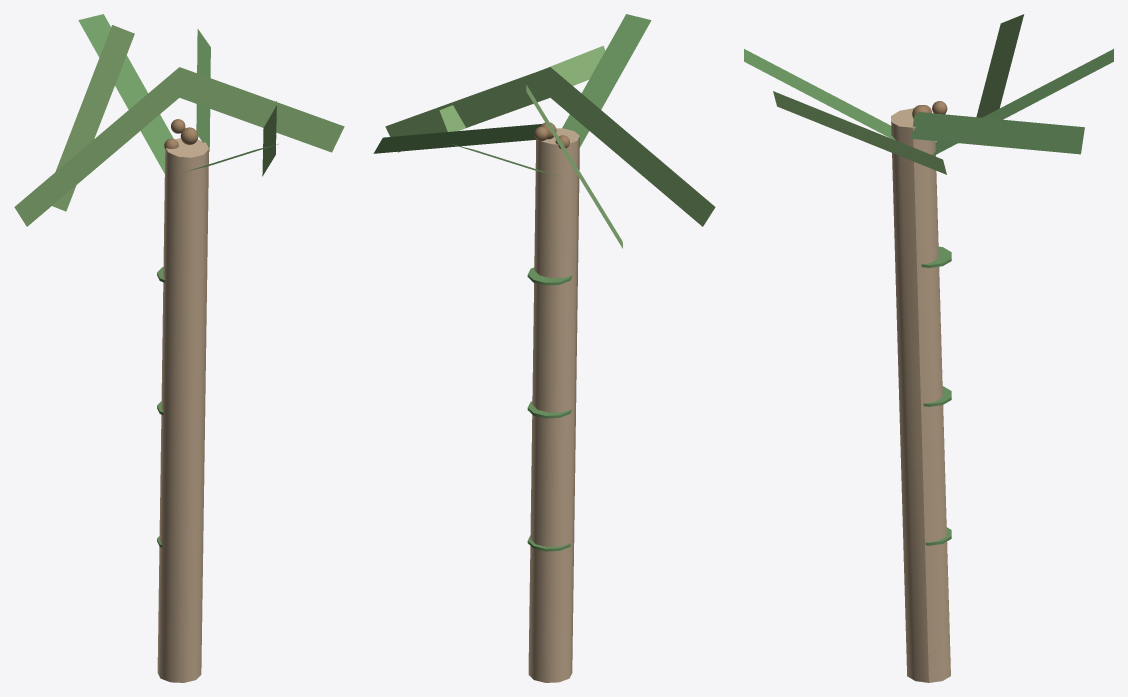
The model's file is palm_tree.glb.
3 views of the same model, side by side, from view 1: azimuth 30°, elevation 25°; view 2: azimuth 150°, elevation 25°; view 3: azimuth 270°, elevation 25° (orthographic). The views are drawn at different scales.
Visible parts, largest first — view 1: trunk, frond_2, frond_1, frond_6, frond_4, frond_7, frond_5; view 2: trunk, frond_2, frond_1, frond_3, frond_7, frond_5, frond_6; view 3: trunk, frond_7, frond_5, frond_6, frond_3, frond_4.
Boxes of the visible parts, box(x1,y1,x2,y2) form: trunk: box(157, 138, 208, 682); frond_2: box(14, 67, 191, 226); frond_1: box(167, 67, 344, 152); frond_6: box(52, 25, 134, 211); frond_4: box(78, 14, 173, 173); frond_7: box(196, 29, 210, 151); frond_5: box(262, 101, 276, 176); trunk: box(528, 128, 579, 682); frond_2: box(538, 67, 715, 226); frond_1: box(385, 67, 562, 152); frond_3: box(562, 14, 651, 147); frond_7: box(373, 124, 541, 153); frond_5: box(439, 45, 605, 131); frond_6: box(526, 85, 622, 248); trunk: box(891, 108, 950, 682); frond_7: box(911, 112, 1084, 154); frond_5: box(773, 91, 946, 174); frond_6: box(976, 14, 1024, 117); frond_3: box(744, 49, 895, 140); frond_4: box(932, 49, 1113, 155).
Size of the model in its own units: 2.6 by 4.67 by 2.41.
